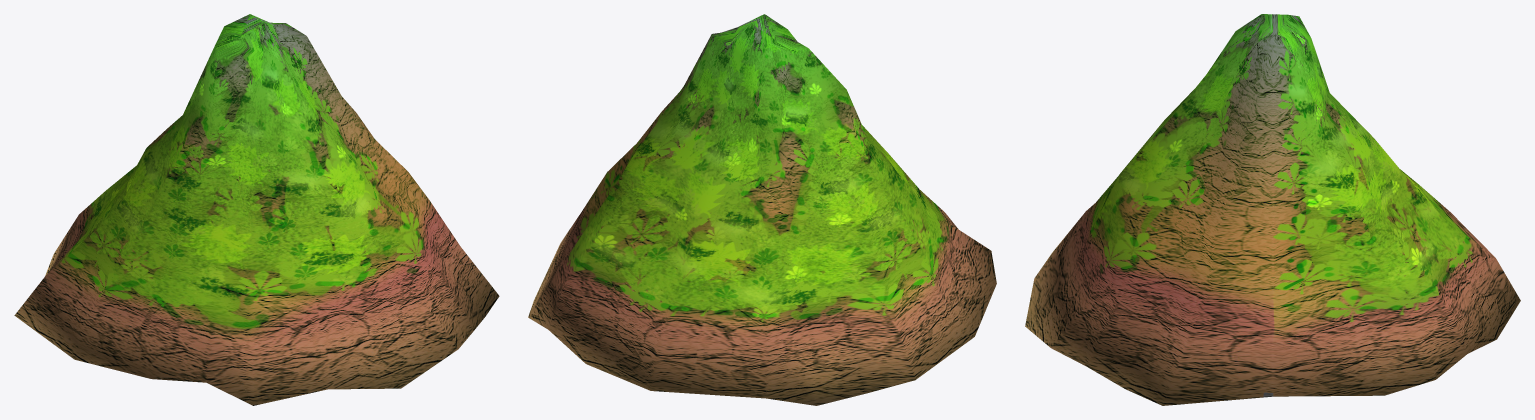
Rendered from CliffAboveSea3.FBX.
3 renders of one model, left to right at view 1: azimuth 30°, elevation 25°; view 2: azimuth 150°, elevation 25°; view 3: azimuth 270°, elevation 25°, orthographic. The views are drawn at different scales.
Parts seen in each view (by area): view 1: Box001; view 2: Box001; view 3: Box001.
Boxes of the visible parts, bbox=[...] form: Box001: bbox=[14, 14, 499, 405]; Box001: bbox=[528, 14, 996, 405]; Box001: bbox=[1025, 14, 1520, 405].
Bounding box in the file's own units: 149 × 108 × 155.
